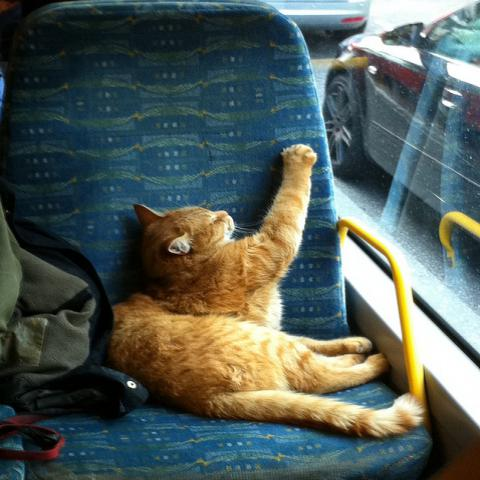car: (322, 3, 479, 230), (265, 4, 370, 38)
